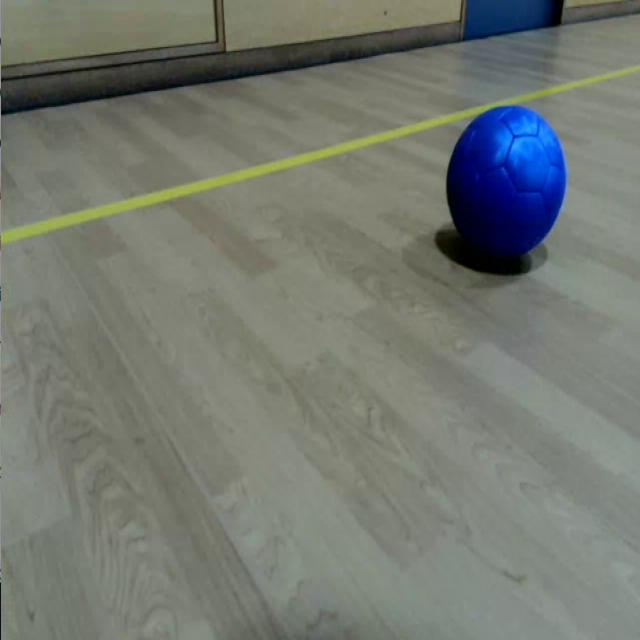blue_ball: (446, 106, 568, 254)
